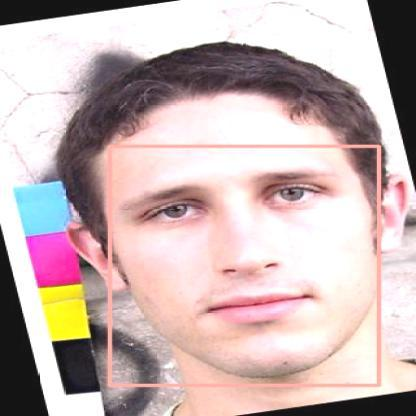without_mask: (110, 146, 379, 385)
